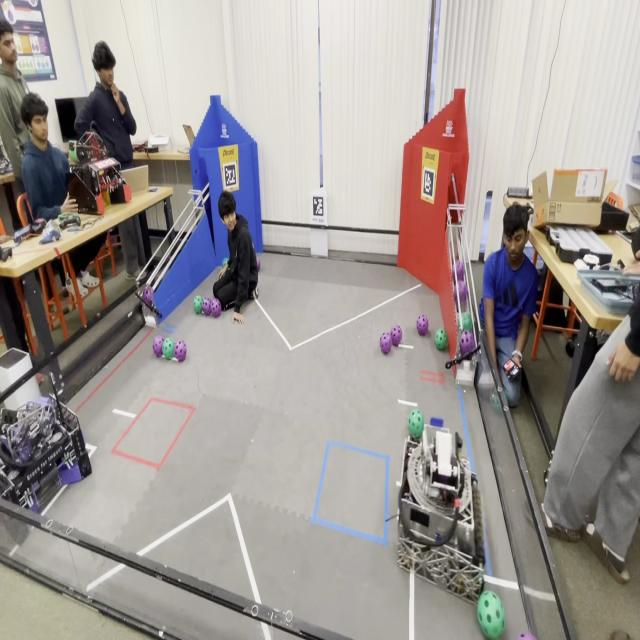artifact_green: (477, 592, 504, 639), (408, 409, 424, 439), (459, 331, 475, 357), (456, 280, 468, 303), (435, 328, 447, 351), (453, 259, 465, 280), (162, 338, 174, 359), (458, 312, 472, 330), (490, 391, 502, 411), (69, 143, 79, 164), (193, 295, 203, 315), (632, 233, 639, 256), (610, 634, 630, 639), (222, 258, 228, 267)
artifact_purple: (460, 331, 475, 356), (152, 335, 164, 357), (416, 315, 428, 336), (174, 341, 186, 361), (391, 325, 402, 346), (380, 333, 391, 354), (210, 299, 222, 318), (458, 281, 468, 303), (142, 285, 153, 305), (455, 260, 464, 280), (203, 298, 212, 315), (518, 633, 535, 639), (454, 292, 459, 312), (257, 257, 260, 271)
